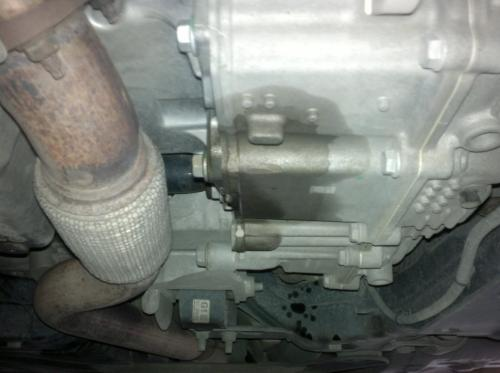oil: (209, 84, 372, 223)
